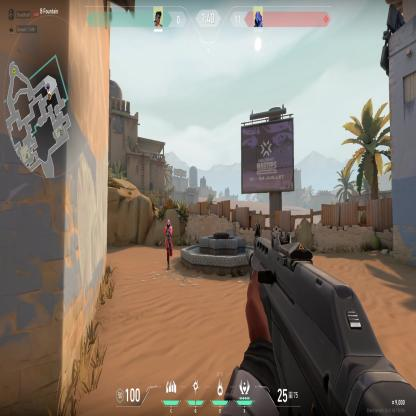enemy: (164, 218, 174, 271)
